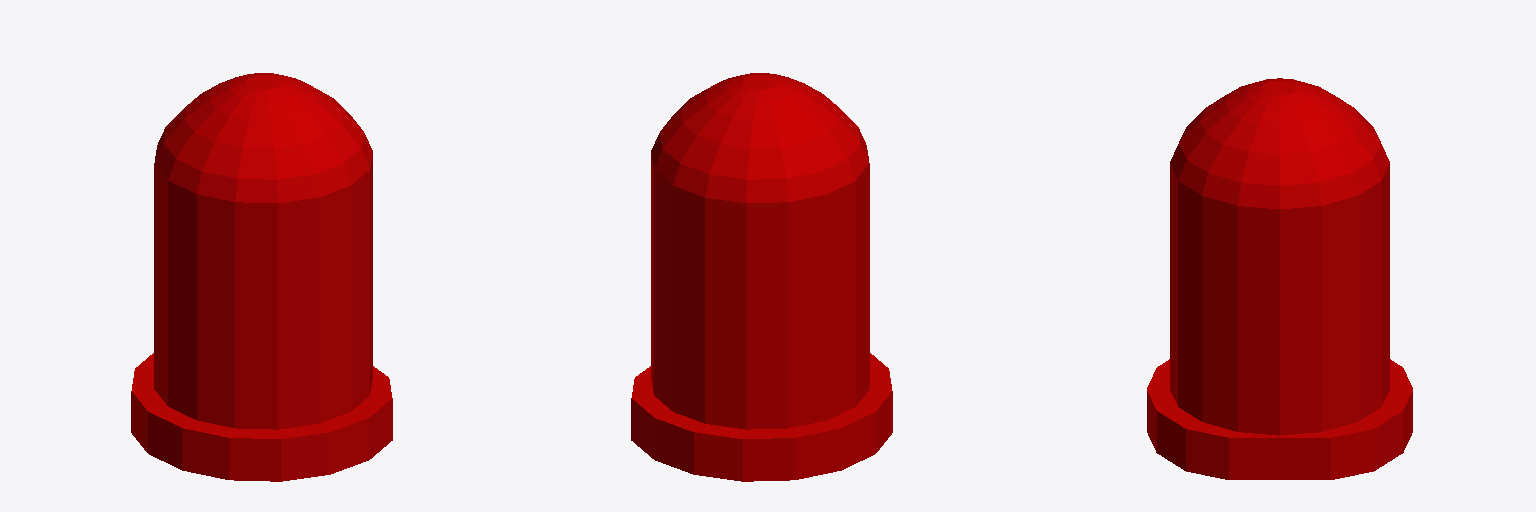
The model's file is led_top.obj.
3 renders of one model, left to right at view 1: azimuth 30°, elevation 25°; view 2: azimuth 150°, elevation 25°; view 3: azimuth 270°, elevation 25°, orthographic.
Visible parts, largest first — view 1: Cylinder.002; view 2: Cylinder.002; view 3: Cylinder.002.
Boxes of the visible parts, <box> form: Cylinder.002: <box>131,73,392,481</box>; Cylinder.002: <box>631,73,892,481</box>; Cylinder.002: <box>1147,78,1412,479</box>.
Bounding box in the file's own units: 1.2 × 1.82 × 1.28.